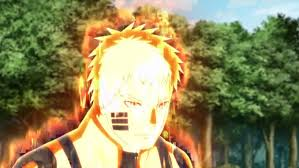Naruto: (90, 34, 178, 152)
